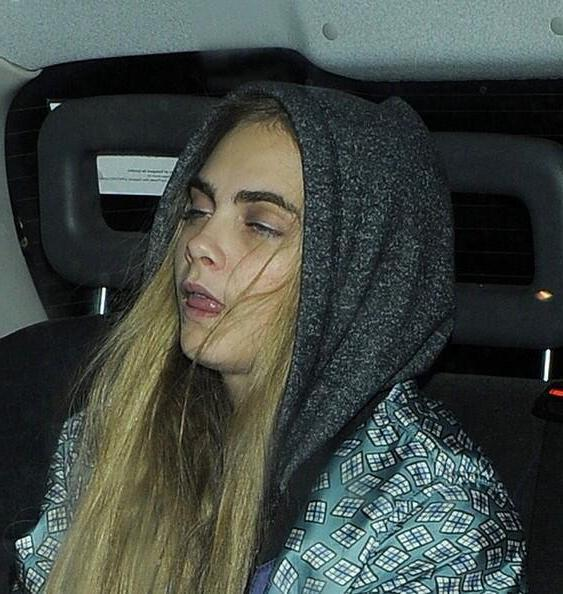Drunk: (174, 117, 307, 366)
